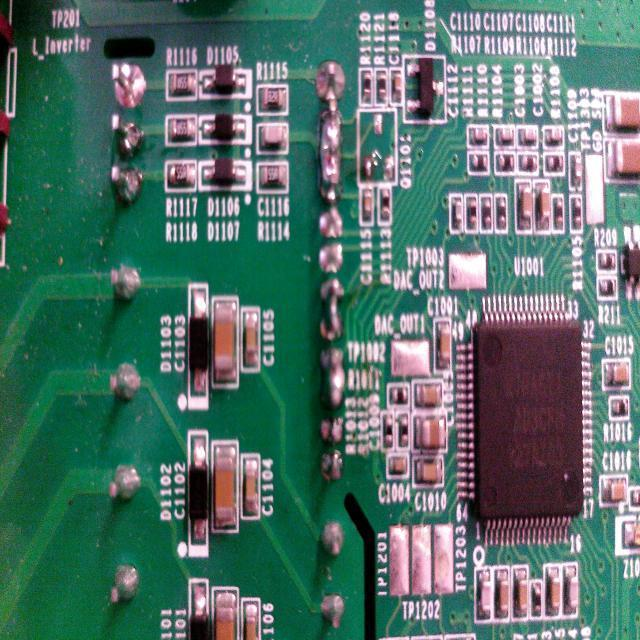Soldering shorted: (312, 100, 346, 202), (316, 337, 350, 420), (317, 276, 348, 342)
